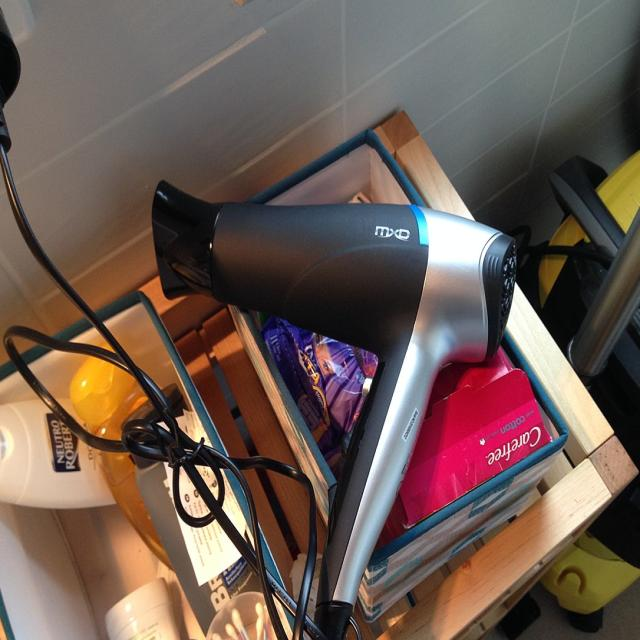dryer: (150, 175, 518, 640)
